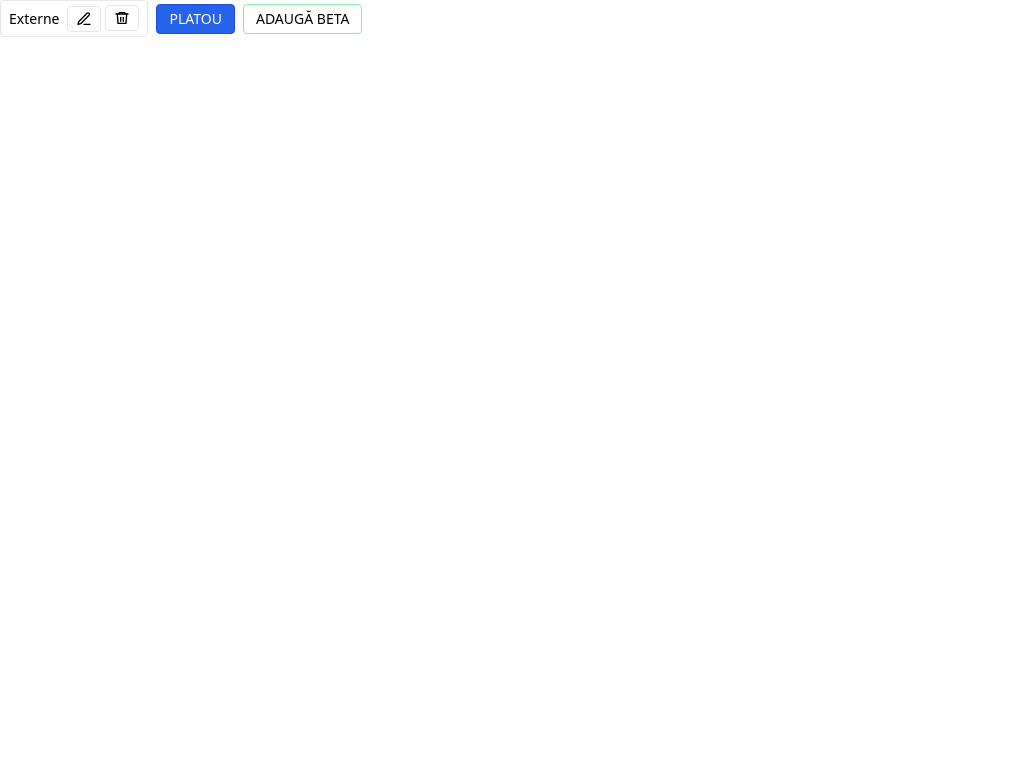
SectionsTabs › asks for confirmation before deleting a BETA section
Click the button titled "Delete" at (122, 18), box x1=106 y1=5 x2=140 y2=31
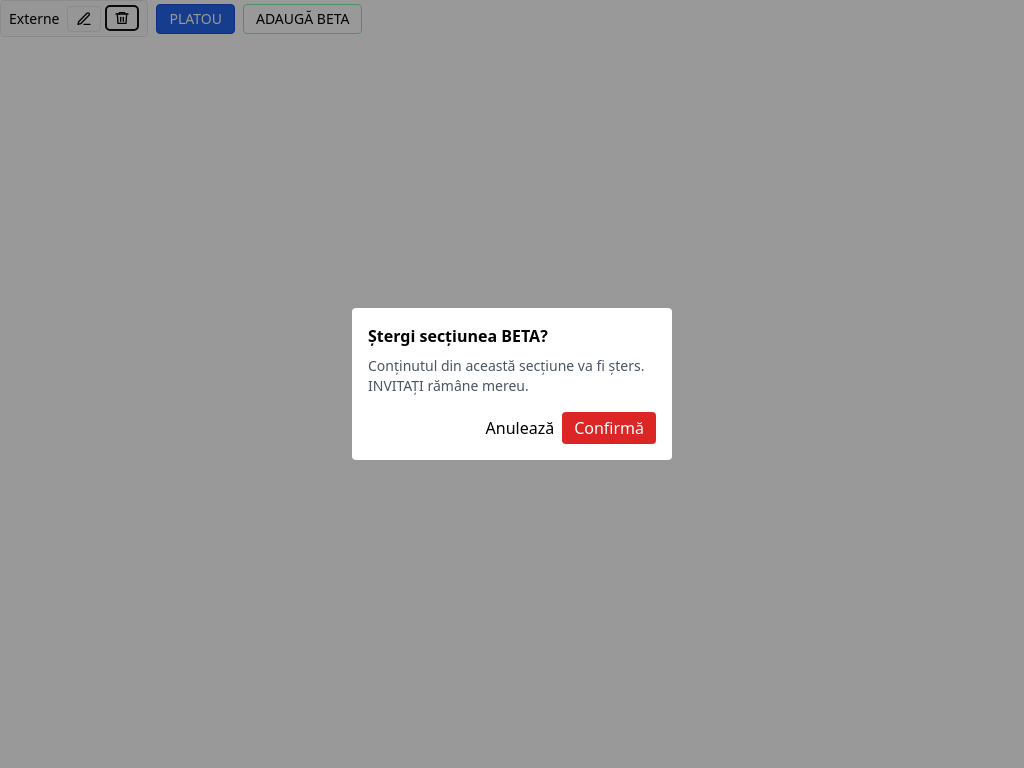
expect the button "Confirmă" is shown: met, box x1=562 y1=412 x2=656 y2=444
